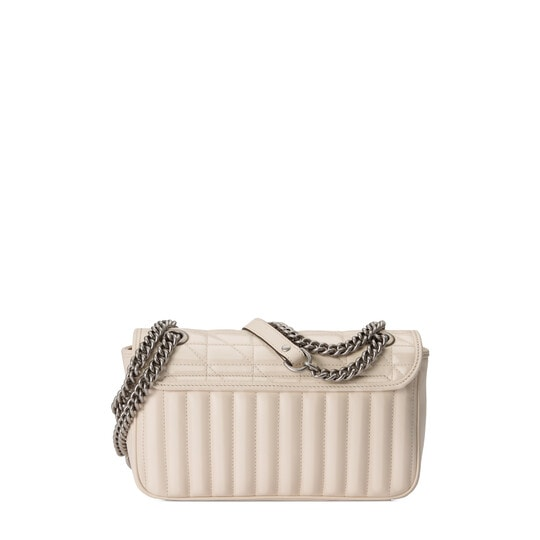Gucci: (126, 314, 429, 500)
